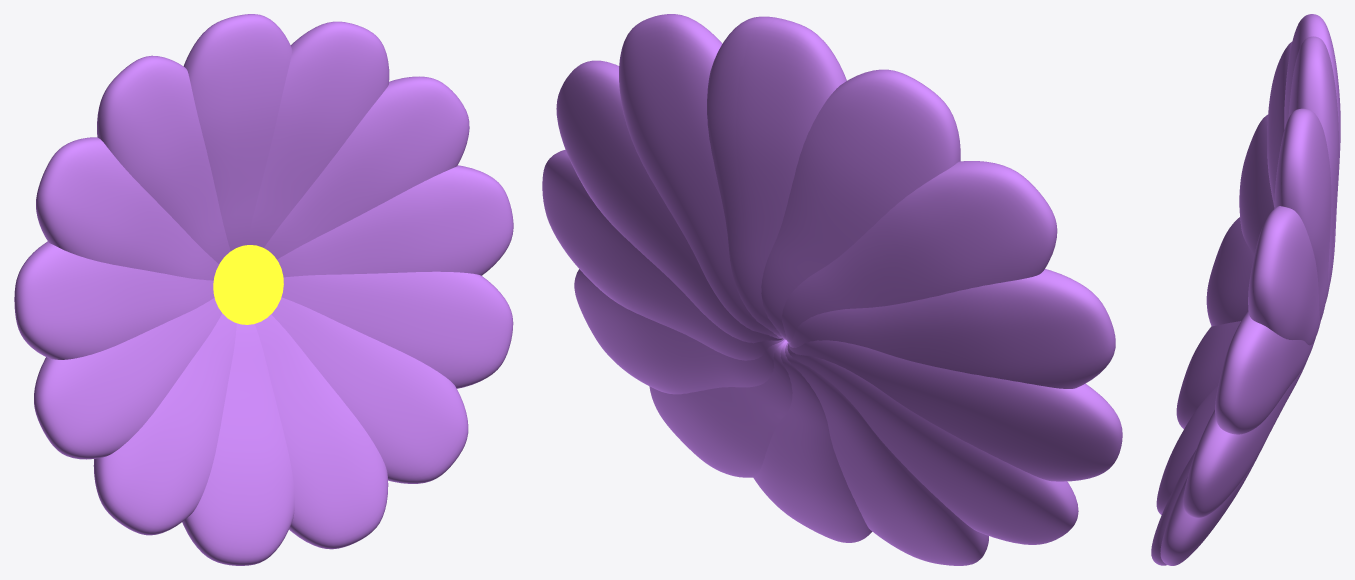
File: flower3.fbx
3 renders of one model, left to right at view 1: azimuth 30°, elevation 25°; view 2: azimuth 150°, elevation 25°; view 3: azimuth 270°, elevation 25°, orthographic. The views are drawn at different scales.
Visible parts, largest first — view 1: Roundcube.006, Plane.025; view 2: Roundcube.006; view 3: Roundcube.006.
Part boxes in pixels (x1,y1,x2,y2): Roundcube.006: (14,14,513,565); Plane.025: (213,245,283,324); Roundcube.006: (542,14,1122,565); Roundcube.006: (1151,14,1340,565).
Bounding box in the file's own units: 369 × 356 × 122.
